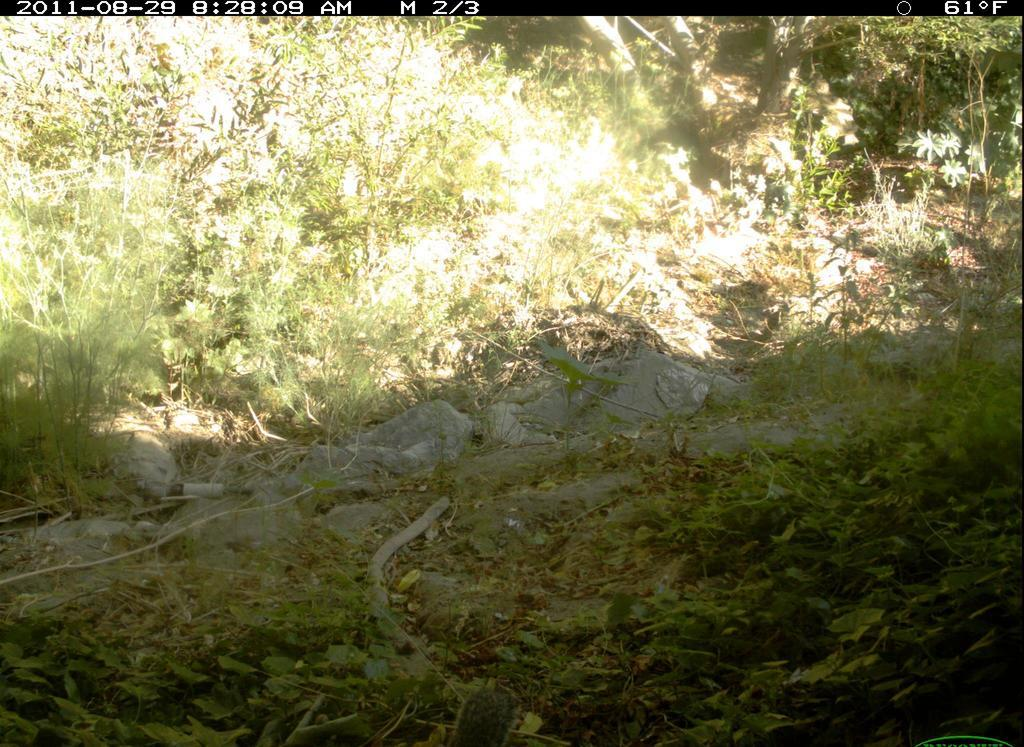squirrel: (386, 648, 565, 747)
